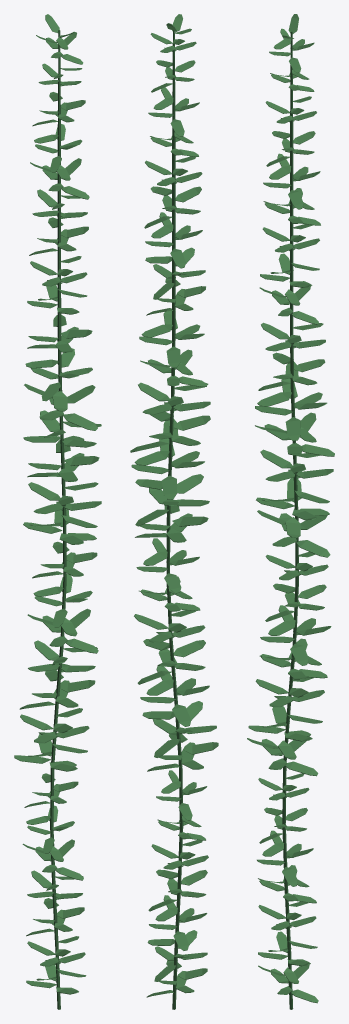
The model's file is Seaweed_004.glb.
3 views of the same model, side by side, from view 1: azimuth 30°, elevation 25°; view 2: azimuth 150°, elevation 25°; view 3: azimuth 330°, elevation 25° (orthographic).
Visible parts, largest first — view 1: Seaweed_004; view 2: Seaweed_004; view 3: Seaweed_004.
Part boxes in pixels (x1=…): Seaweed_004: x1=14, y1=14, x2=101, y2=1009; Seaweed_004: x1=130, y1=14, x2=218, y2=1009; Seaweed_004: x1=247, y1=14, x2=334, y2=1009.
Bounding box in the file's own units: 0.7586 × 9.48 × 0.6732.
1 material, 1 textured.
